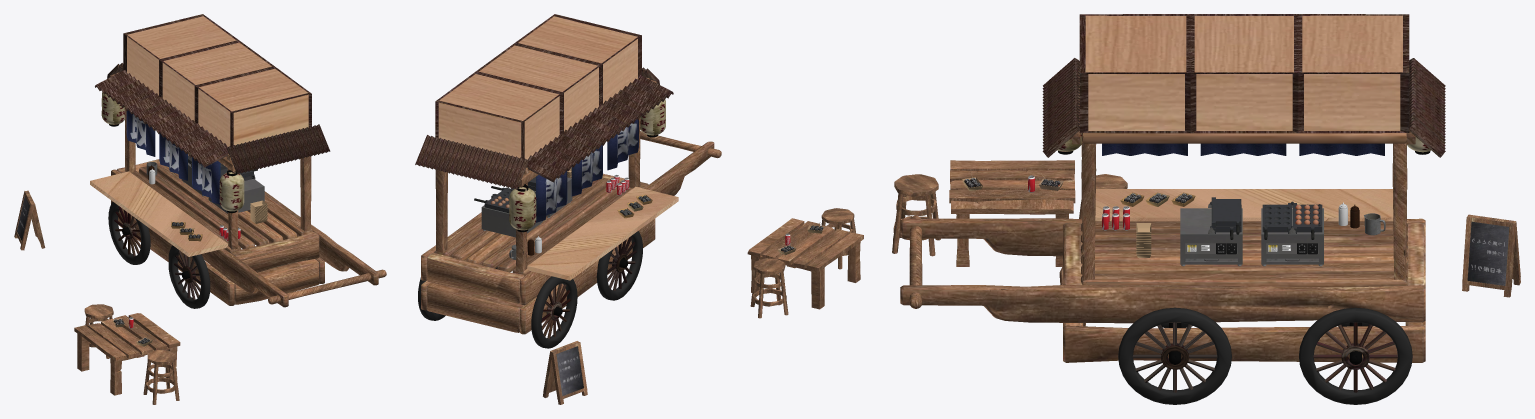
The model's file is cart-mobile.glb.
3 views of the same model, side by side, from view 1: azimuth 30°, elevation 25°; view 2: azimuth 150°, elevation 25°; view 3: azimuth 270°, elevation 25° (orthographic). The views are drawn at different scales.
Visible parts, largest first — view 1: GEO_Roof_Baked, GEO_CartBody_Baked, SM_CartPlanks_Baked, GEO_FrontFlap_Baked, GEO_OutsideBar_Baked, SM_CartSidePlanks_Baked, SM_Table_Baked, GEO_SideFlapR_Baked, GEO_Curtains_Baked, GEO_RoofWireframe_Baked, GEO_RoofPoles_Baked, GEO_WheelsRight (+12 smaller); view 2: GEO_Roof_Baked, SM_CartSidePlanks_Baked, SM_CartPlanks_Baked, GEO_FrontFlap_Baked, GEO_OutsideBar_Baked, SM_Table_Baked, GEO_CartBody_Baked, GEO_SideFlapR_Baked, GEO_Curtains_Baked, GEO_RoofWireframe_Baked, GEO_RoofPoles_Baked, GEO_WheelslLeft (+12 smaller); view 3: GEO_Roof_Baked, GEO_CartBody_Baked, SM_CartPlanks_Baked, SM_Table_Baked, GEO_RoofWireframe_Baked, GEO_OutsideBar_Baked, GEO_SideFlapR_Baked, GEO_WheelsRight, GEO_WheelslLeft, SM_TakoyakiMachine_Body.001, GEO_RoofPoles_Baked, GEO_InsideRoof (+13 smaller).
Boxes of the visible parts, x1=… form: GEO_Roof_Baked: x1=127, y1=16, x2=308, y2=146; GEO_CartBody_Baked: x1=111, y1=169, x2=378, y2=307; SM_CartPlanks_Baked: x1=124, y1=163, x2=312, y2=252; GEO_FrontFlap_Baked: x1=95, y1=70, x2=228, y2=167; GEO_OutsideBar_Baked: x1=90, y1=171, x2=227, y2=256; SM_CartSidePlanks_Baked: x1=117, y1=154, x2=319, y2=304; SM_Table_Baked: x1=74, y1=313, x2=180, y2=395; GEO_SideFlapR_Baked: x1=107, y1=63, x2=330, y2=174; GEO_Curtains_Baked: x1=126, y1=110, x2=220, y2=204; GEO_RoofWireframe_Baked: x1=123, y1=14, x2=311, y2=146; GEO_RoofPoles_Baked: x1=124, y1=108, x2=311, y2=249; GEO_WheelsRight: x1=168, y1=245, x2=210, y2=308; GEO_Roof_Baked: x1=438, y1=16, x2=637, y2=159; SM_CartSidePlanks_Baked: x1=427, y1=173, x2=648, y2=332; SM_CartPlanks_Baked: x1=434, y1=177, x2=641, y2=275; GEO_FrontFlap_Baked: x1=526, y1=75, x2=673, y2=182; GEO_OutsideBar_Baked: x1=527, y1=186, x2=678, y2=280; SM_Table_Baked: x1=747, y1=218, x2=863, y2=309; GEO_CartBody_Baked: x1=421, y1=141, x2=714, y2=334; GEO_SideFlapR_Baked: x1=415, y1=67, x2=659, y2=189; GEO_Curtains_Baked: x1=536, y1=119, x2=638, y2=222; GEO_RoofWireframe_Baked: x1=435, y1=14, x2=641, y2=159; GEO_RoofPoles_Baked: x1=435, y1=118, x2=640, y2=272; GEO_WheelslLeft: x1=418, y1=276, x2=577, y2=348; GEO_Roof_Baked: x1=1085, y1=15, x2=1402, y2=130; GEO_CartBody_Baked: x1=900, y1=218, x2=1425, y2=362; SM_CartPlanks_Baked: x1=1081, y1=221, x2=1407, y2=287; SM_Table_Baked: x1=949, y1=160, x2=1075, y2=266; GEO_RoofWireframe_Baked: x1=1079, y1=14, x2=1409, y2=133; GEO_OutsideBar_Baked: x1=1095, y1=189, x2=1393, y2=221; GEO_SideFlapR_Baked: x1=1042, y1=58, x2=1445, y2=157; GEO_WheelsRight: x1=1118, y1=307, x2=1231, y2=404; GEO_WheelslLeft: x1=1299, y1=307, x2=1412, y2=404; SM_TakoyakiMachine_Body.001: x1=1180, y1=208, x2=1323, y2=264; GEO_RoofPoles_Baked: x1=1081, y1=142, x2=1407, y2=280; GEO_InsideRoof: x1=1081, y1=133, x2=1406, y2=143.
Bounding box in the file's own units: 2.71 × 2.15 × 3.78.
Materials: 72 (70 with a texture image).
